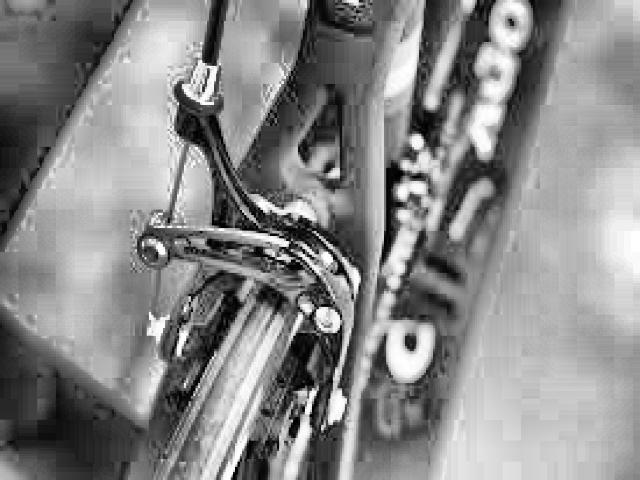rim_brake: (138, 61, 362, 448)
